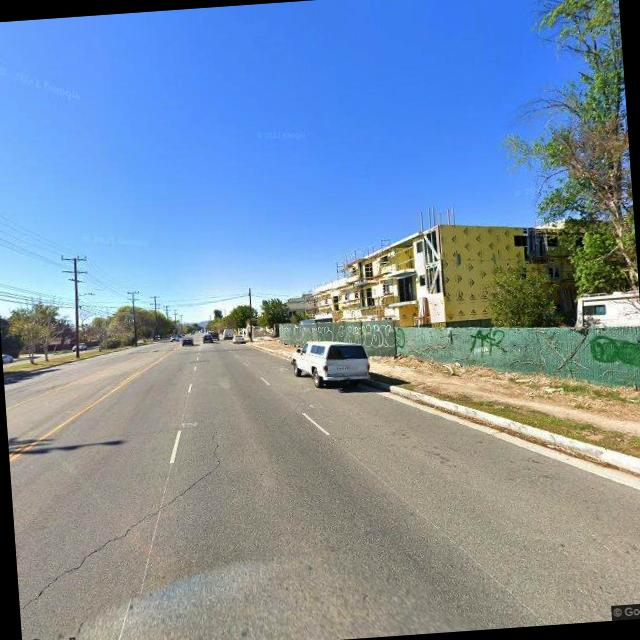pothole: (7, 418, 232, 610)
